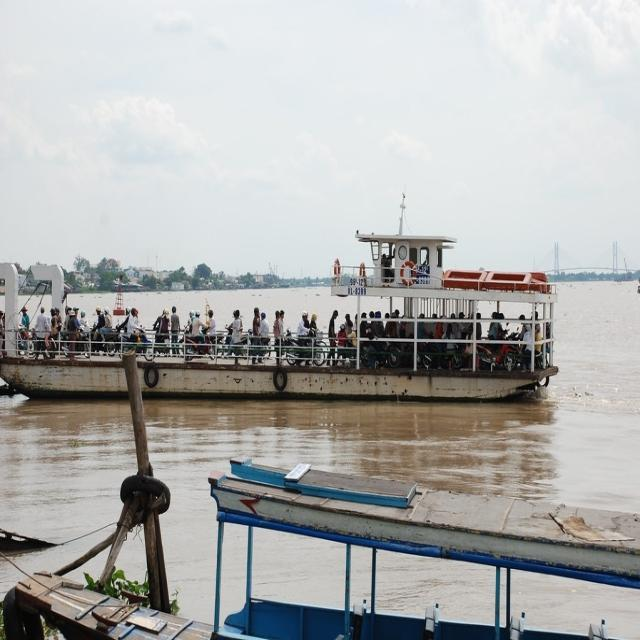boat: (5, 224, 565, 405)
